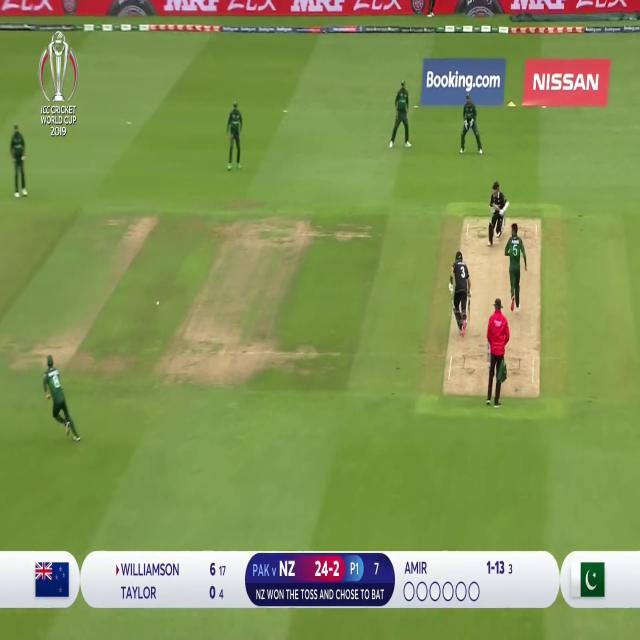bat: (489, 202, 501, 214), (467, 296, 471, 324)
